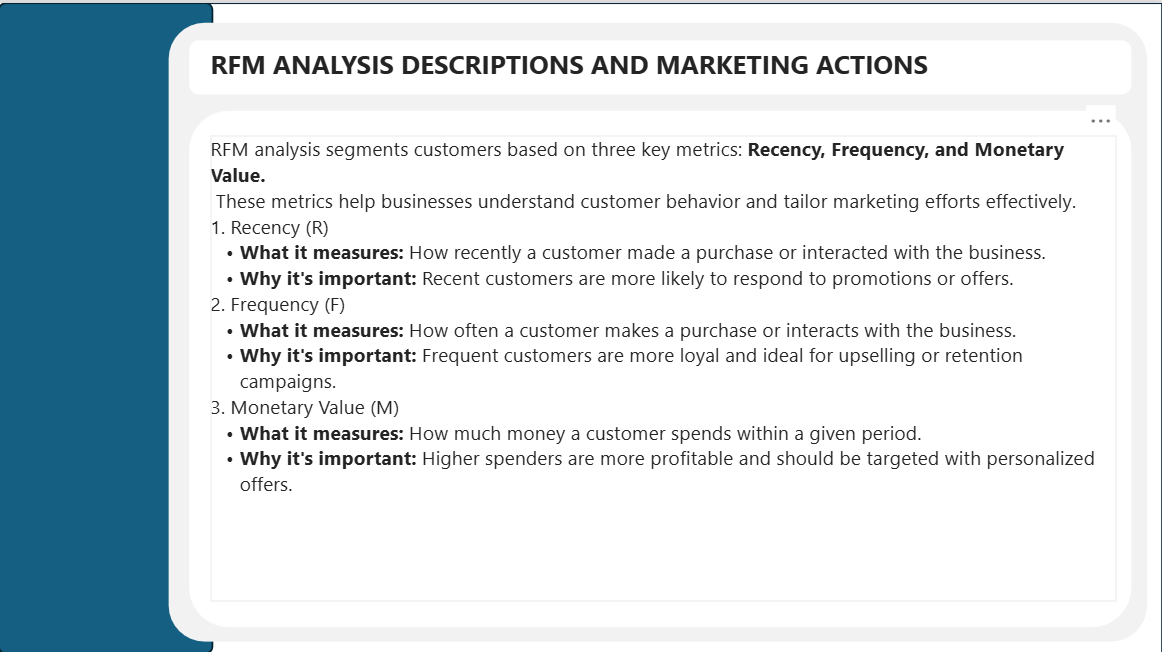

This screenshot's page, from the dashboard's own definition file:
{"tool":"powerbi","page":{"name":"Segments description","canvas":[1920,1080],"ordinal":3},"visuals":[{"type":"textbox","box":[350,70,1275,65],"z":0},{"type":"textbox","box":[350,217.5,1492.5,767.5],"z":1000}]}

Visuals, with their boxes in screenshot pixels (x1, y1, x2, y2), scaled from the page's 1920x1080 canvas onto the 1162x652 screenshot:
textbox: (212,42,983,82)
textbox: (212,131,1115,595)
